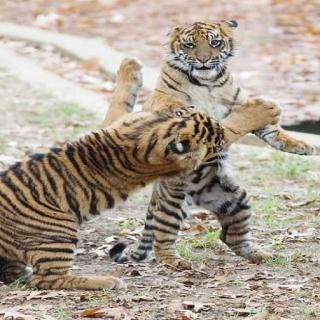Tiger: (0, 94, 227, 296), (140, 11, 302, 279)
